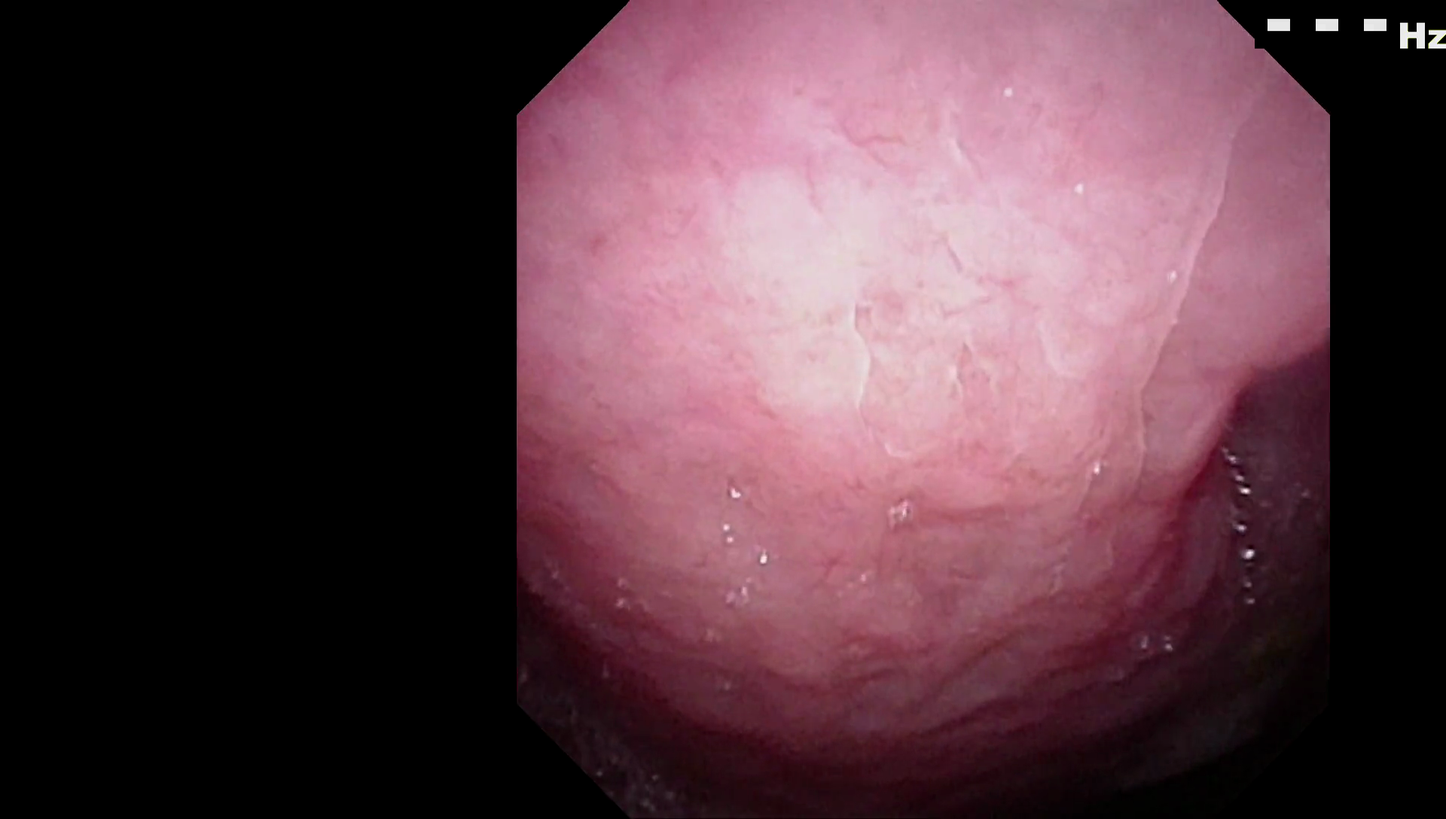close_wall: (539, 80, 1250, 549)
next: (530, 605, 865, 819), (953, 631, 1247, 819)
